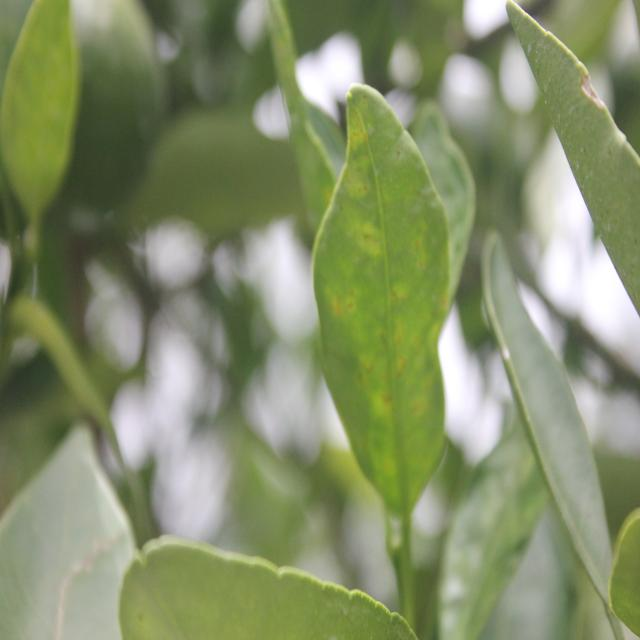canker: (327, 100, 442, 500)
